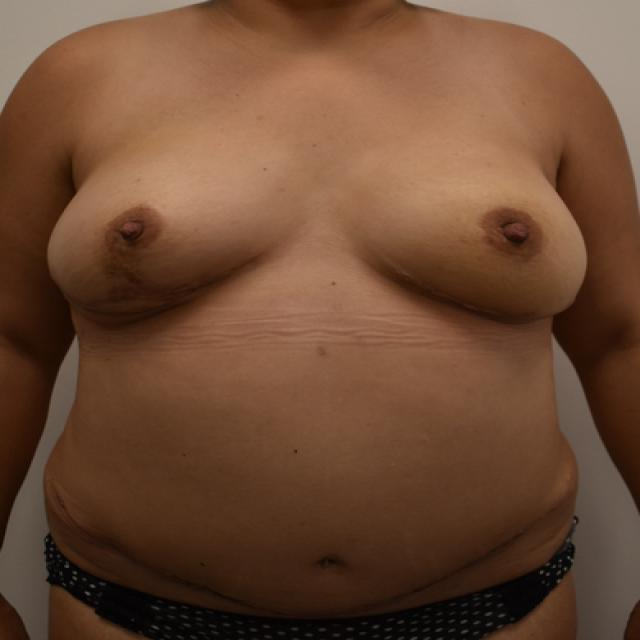Seno herido: (317, 150, 596, 332), (38, 150, 296, 333)
